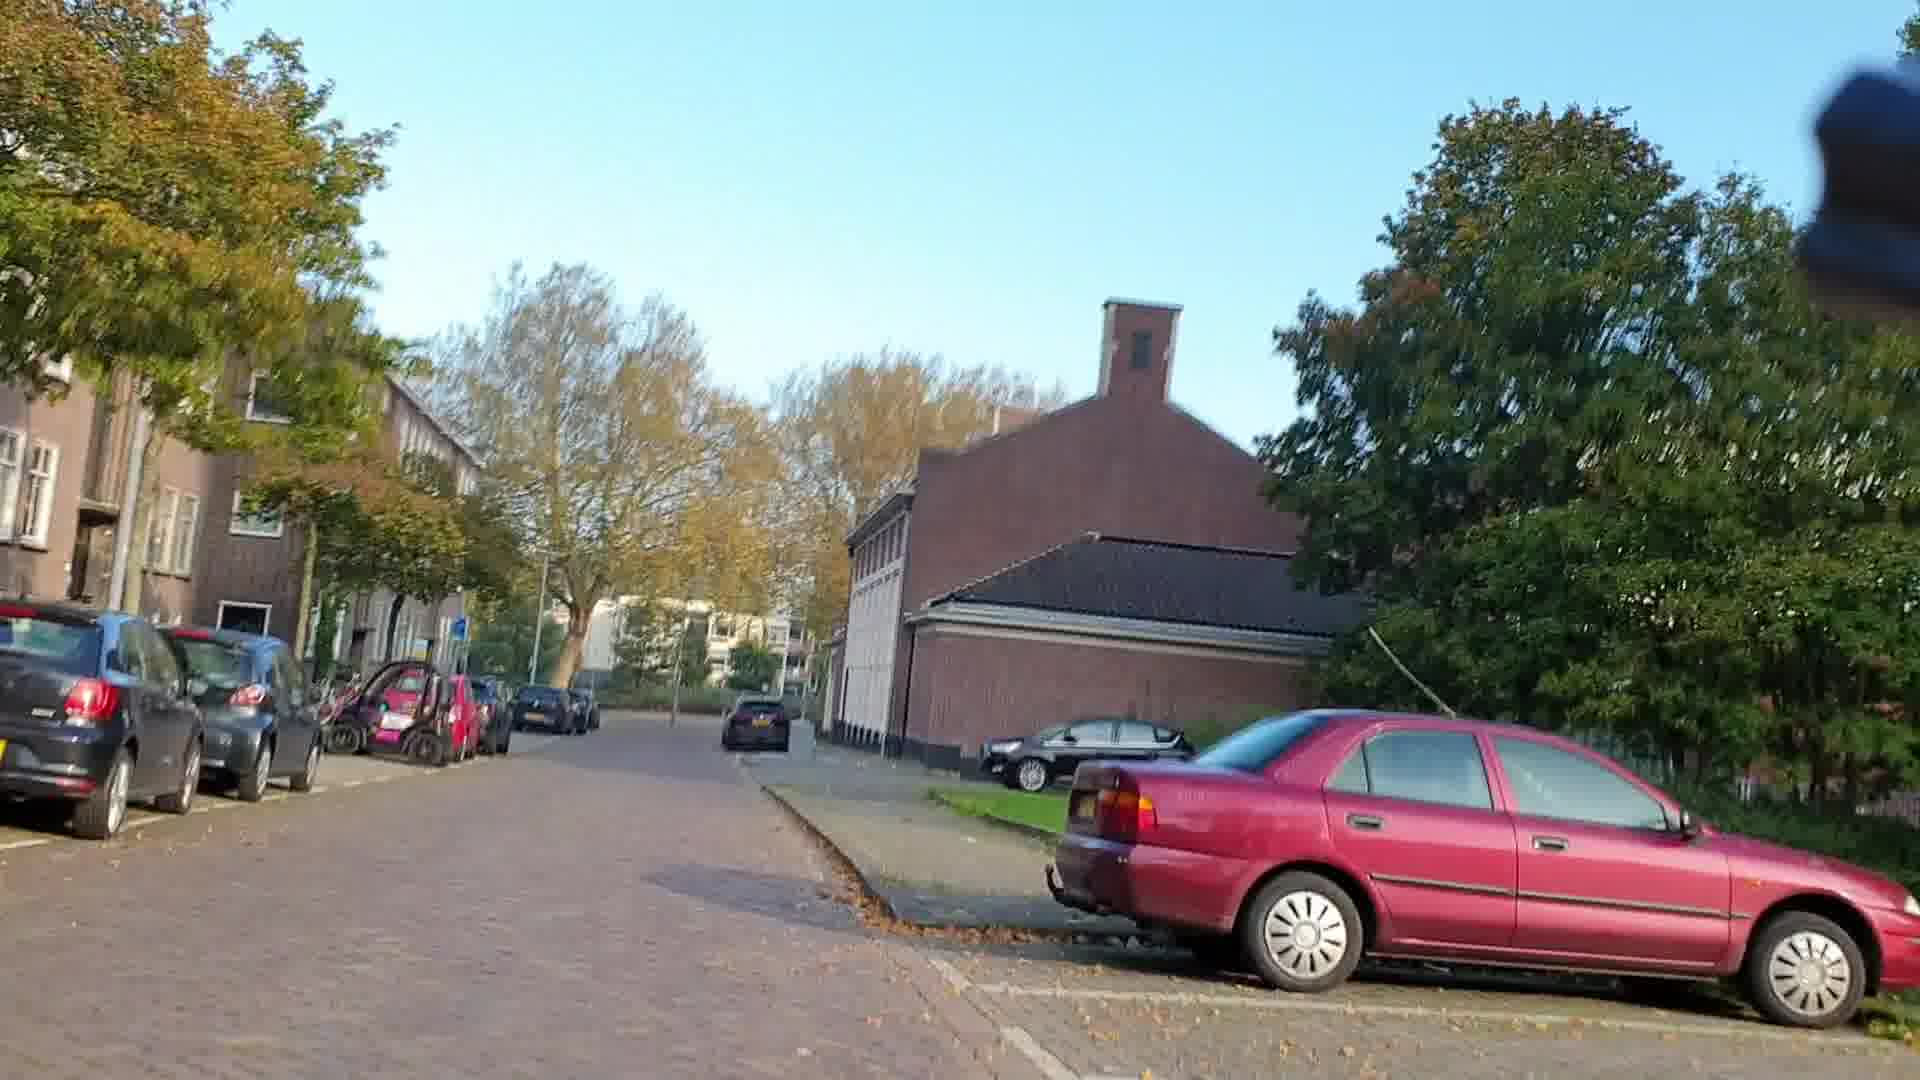car: (1067, 708, 1920, 1021)
